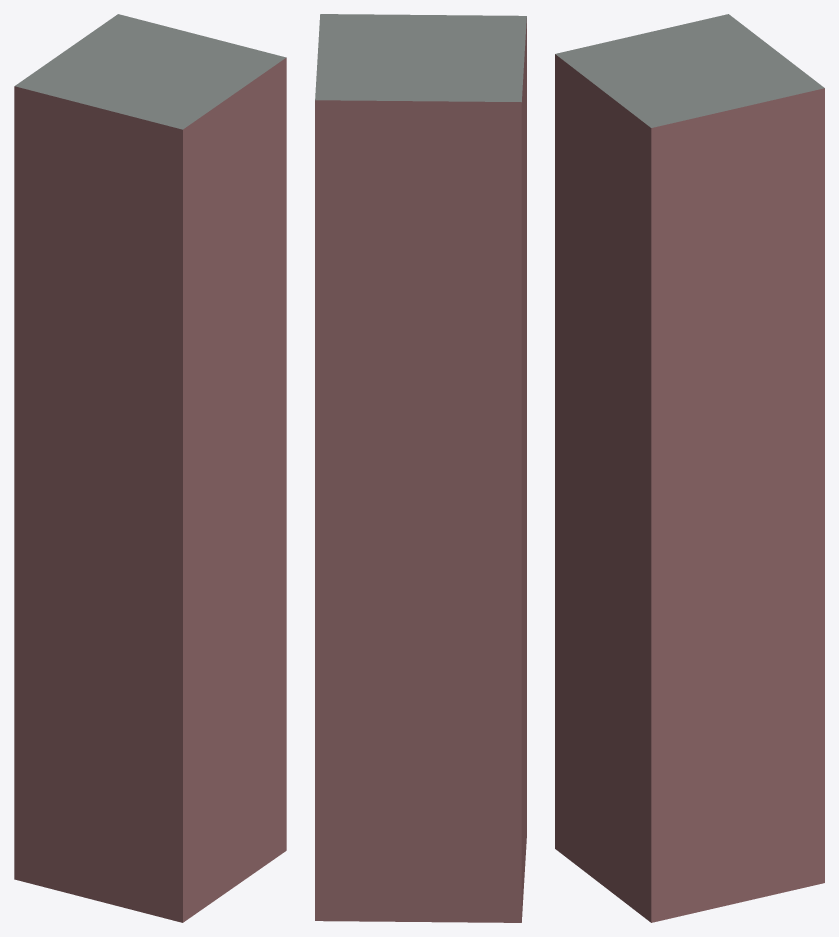
Rendered from nyc-1022558-0.glb.
3 renders of one model, left to right at view 1: azimuth 30°, elevation 25°; view 2: azimuth 150°, elevation 25°; view 3: azimuth 270°, elevation 25°, orthographic. The views are drawn at different scales.
Parts seen in each view (by area): view 1: nyc-1022558-0; view 2: nyc-1022558-0; view 3: nyc-1022558-0.
Boxes of the visible parts, box(x1,y1,x2,y2) form: nyc-1022558-0: box(14, 14, 286, 922); nyc-1022558-0: box(315, 14, 526, 922); nyc-1022558-0: box(555, 14, 824, 922).
Bounding box in the file's own units: 24.23 × 78.68 × 24.22.
